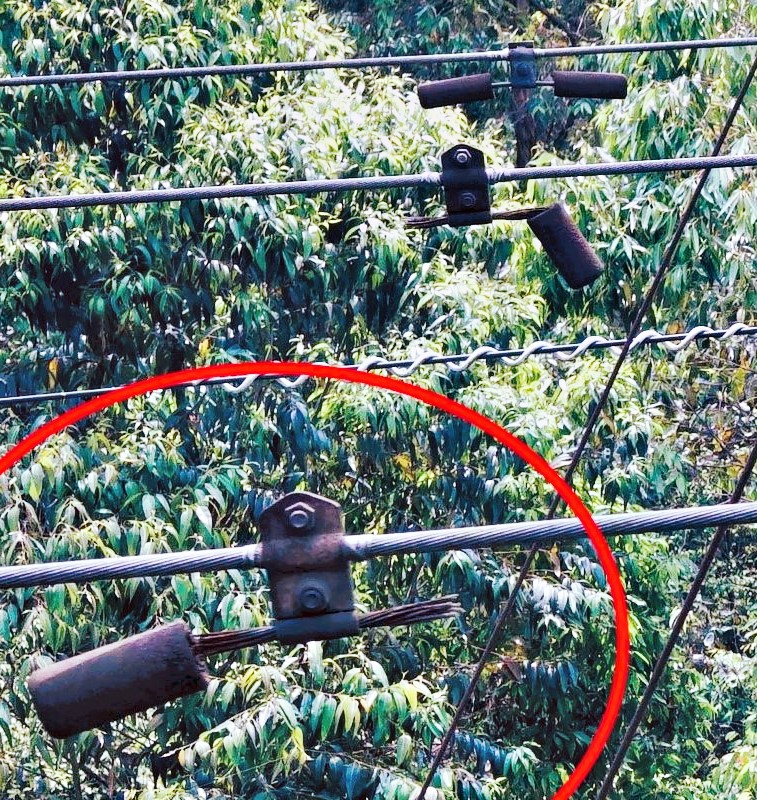Damage of shockproof hammer: (18, 473, 475, 760), (400, 134, 612, 302)
